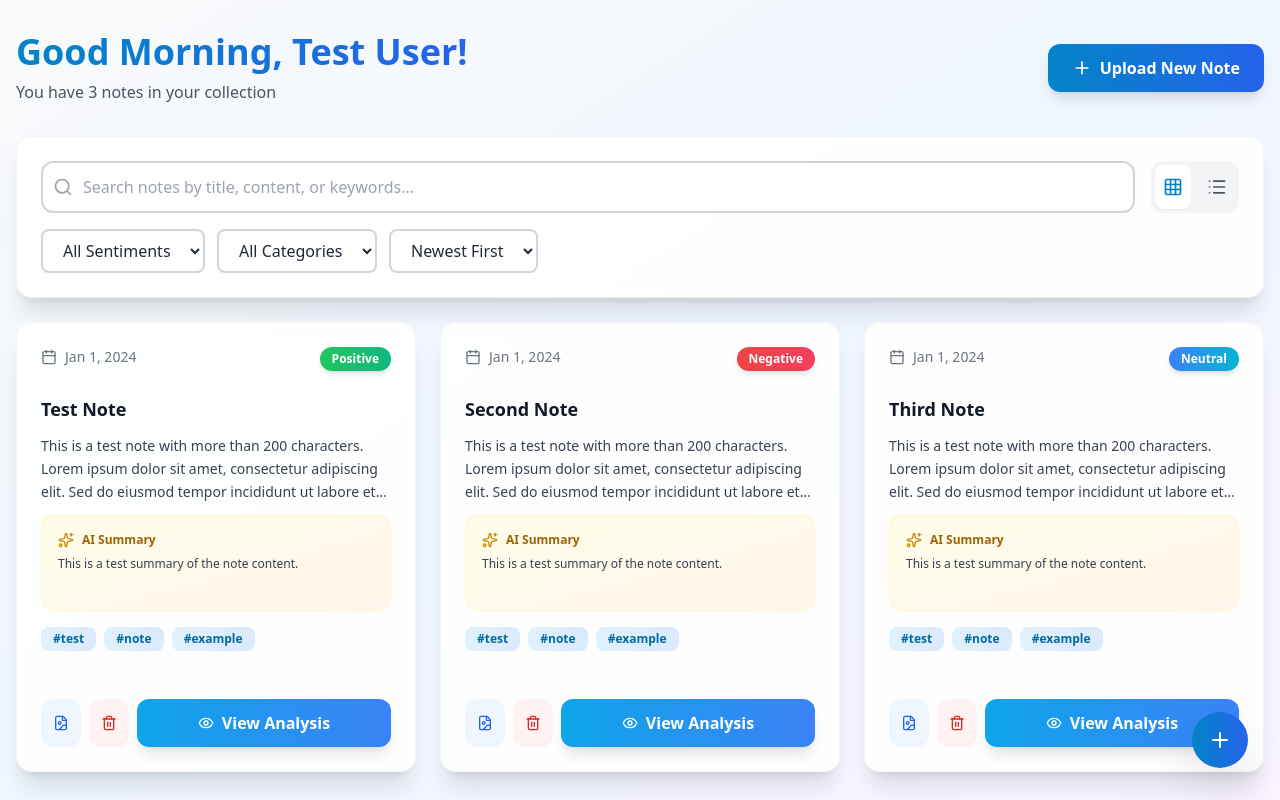
it: Dashboard Component › Filters › should show clear filters button when filters are active
Select "Positive" in the 1st dropdown showing "All Sentiments" at (123, 251), box x1=41 y1=229 x2=205 y2=273
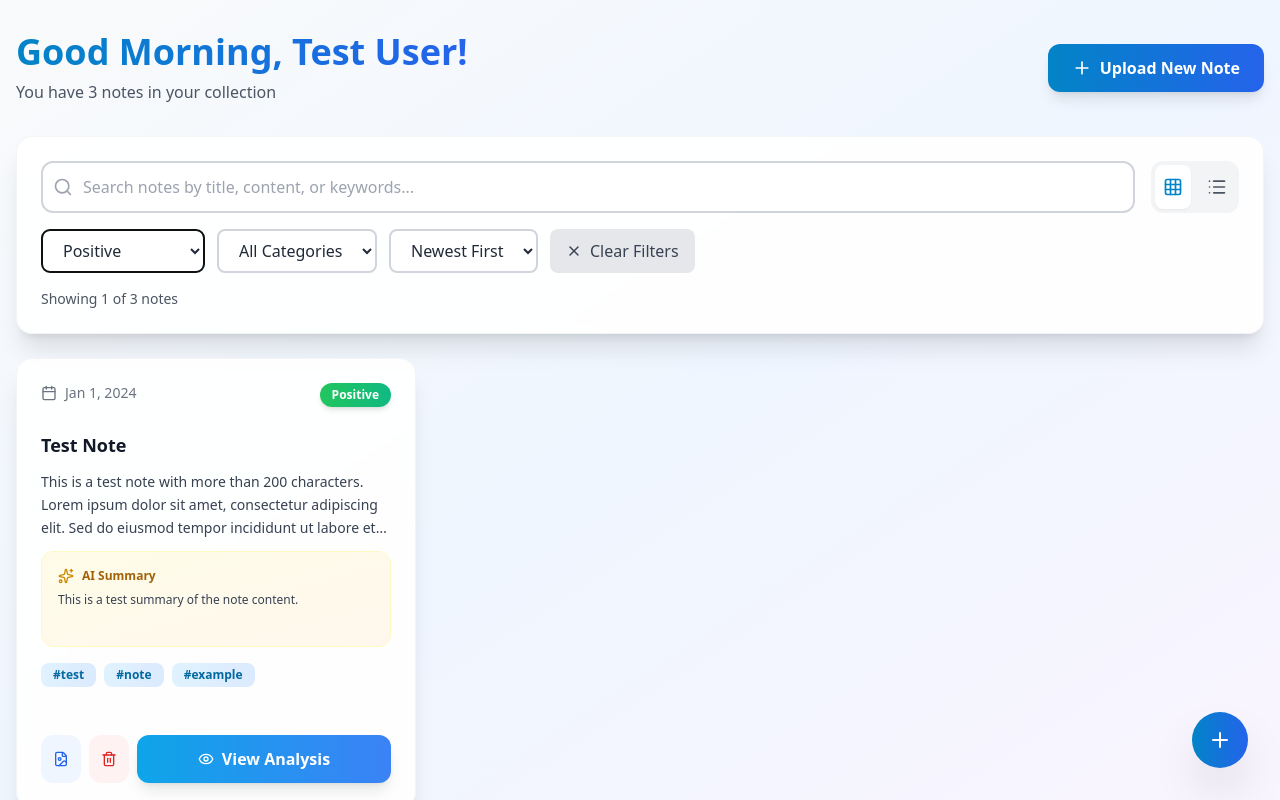
expect the text "Clear Filters" is shown: met, box x1=590 y1=239 x2=679 y2=263
